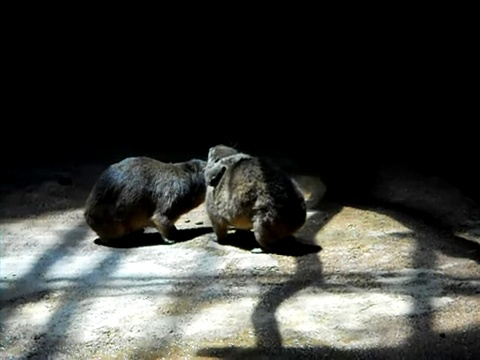Rock Hyrex: (205, 146, 323, 255), (89, 150, 207, 245)
